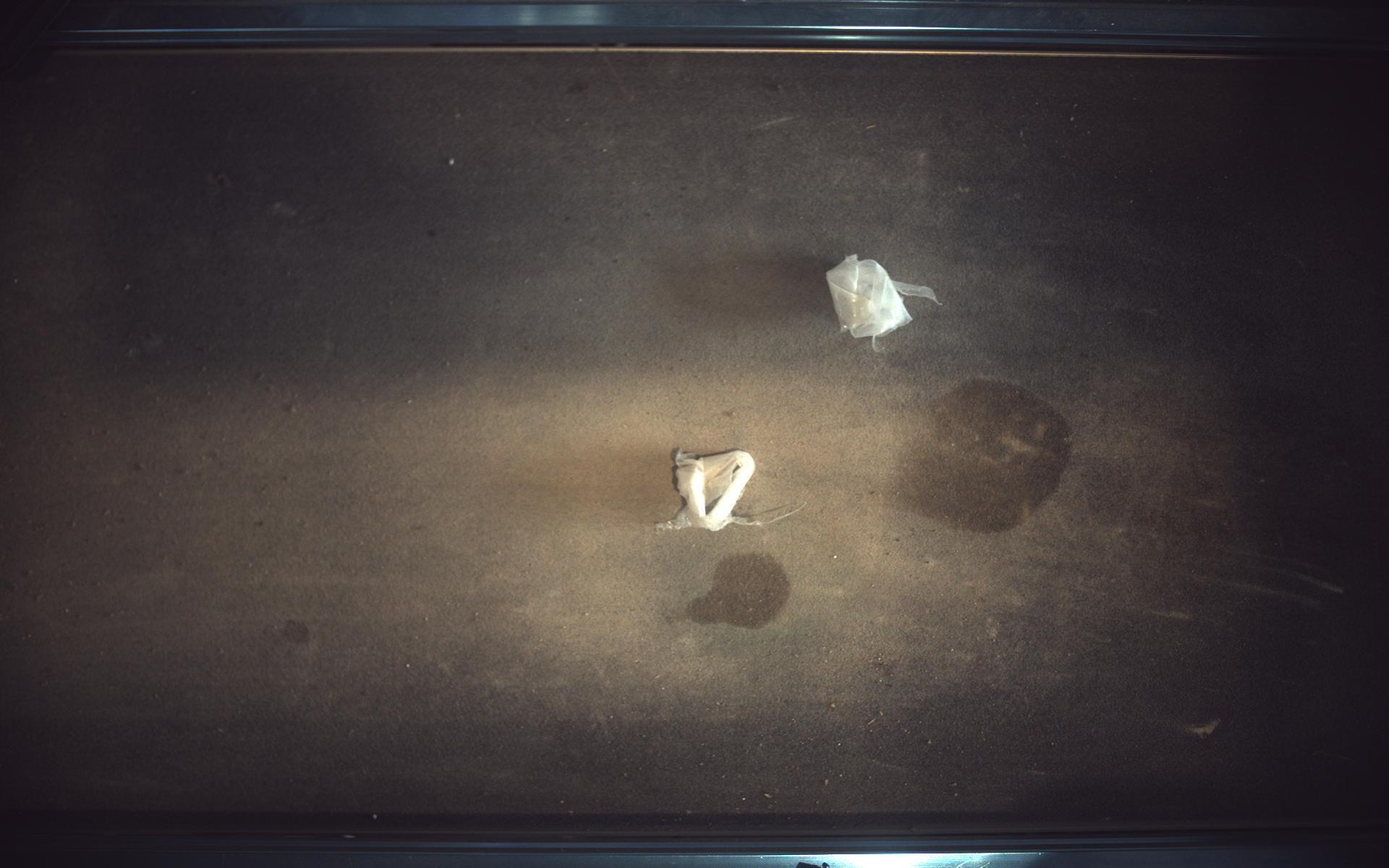general_w: (658, 449, 805, 532), (828, 255, 940, 352)
